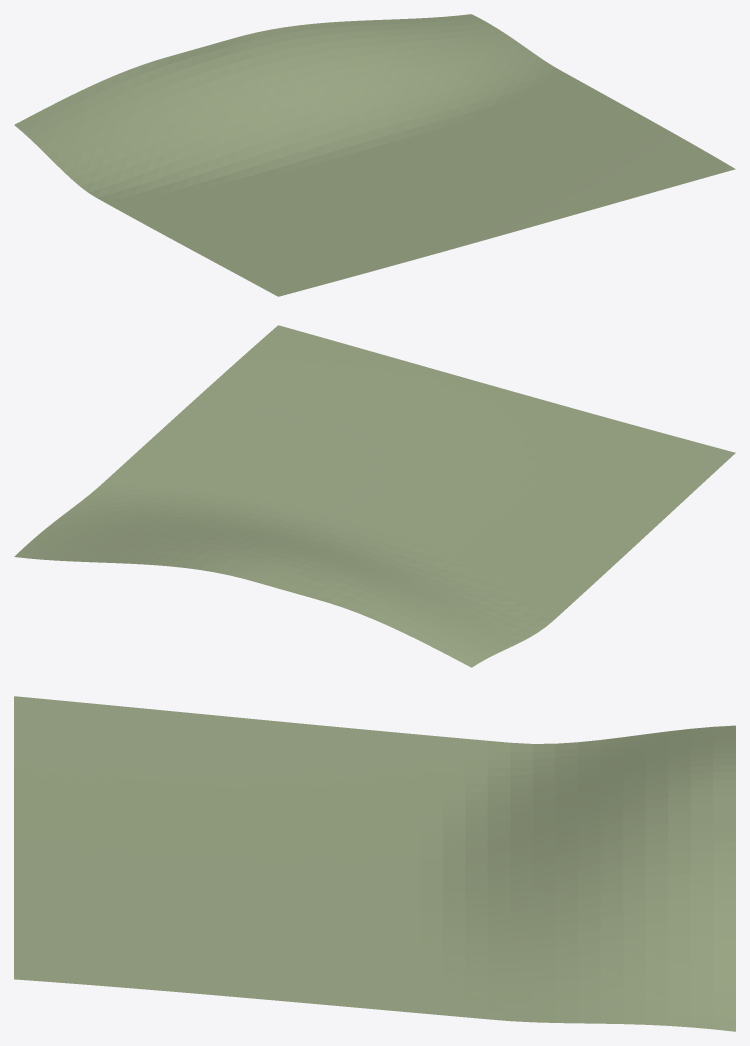
The model's file is desert-8-26.glb.
The picture shows the model from 3 angles, top to bottom: view 1: azimuth 30°, elevation 25°; view 2: azimuth 150°, elevation 25°; view 3: azimuth 270°, elevation 25°; orthographic projection. The views are drawn at different scales.
Visible parts, largest first — view 1: desert-8-26; view 2: desert-8-26; view 3: desert-8-26.
Part boxes in pixels (bbox=[...]): desert-8-26: bbox=[14, 14, 735, 296]; desert-8-26: bbox=[14, 325, 735, 667]; desert-8-26: bbox=[14, 696, 735, 1031].
Size of the model in its own units: 512 by 54.51 by 512.
